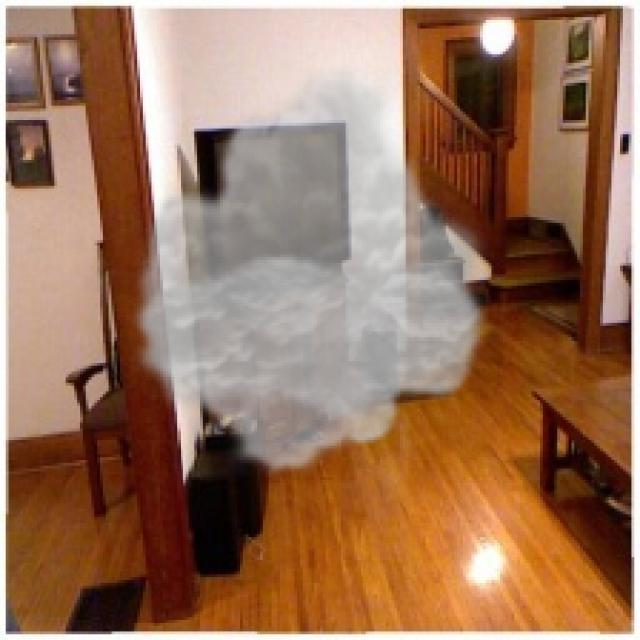Smoke: (126, 62, 494, 478)
